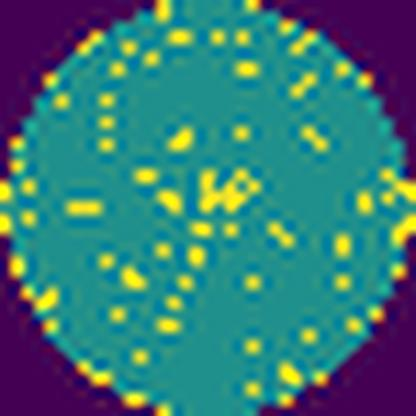Center: (198, 166, 260, 220)
